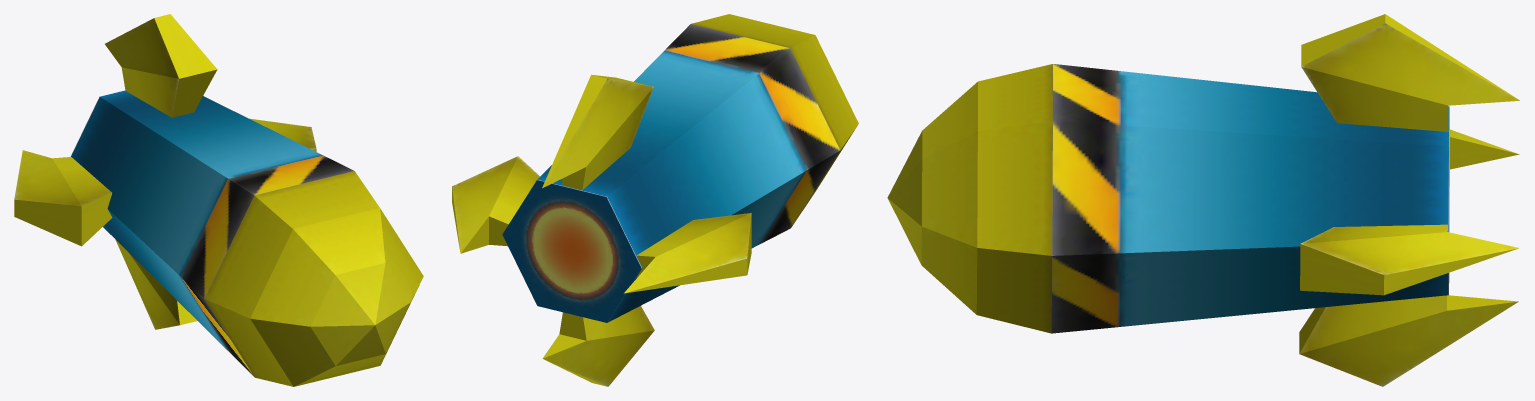
Rendered from Anchor Rocket.glb.
3 views of the same model, side by side, from view 1: azimuth 30°, elevation 25°; view 2: azimuth 150°, elevation 25°; view 3: azimuth 270°, elevation 25° (orthographic). The views are drawn at different scales.
Parts seen in each view (by area): view 1: RocketModel; view 2: RocketModel; view 3: RocketModel.
Boxes of the visible parts, x1=… form: RocketModel: x1=14, y1=14, x2=423, y2=386; RocketModel: x1=452, y1=14, x2=858, y2=386; RocketModel: x1=887, y1=14, x2=1519, y2=386.
Size of the model in its own units: 2.17 by 2.17 by 3.42.
Materials: 1 (1 with a texture image).
